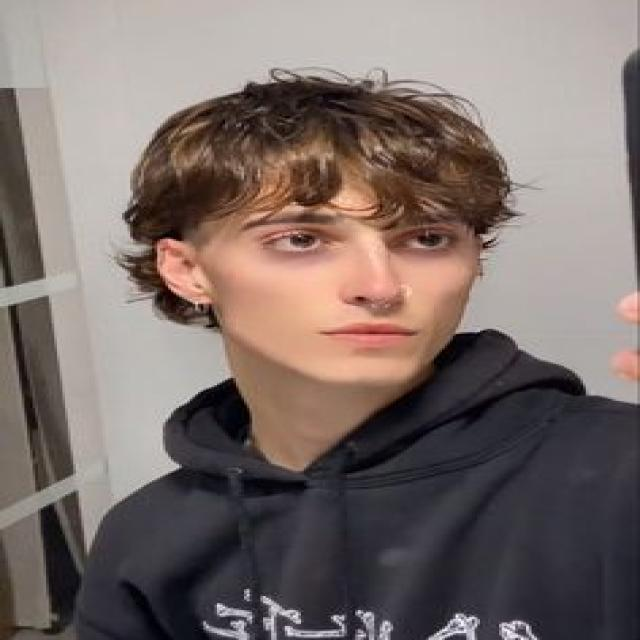Nonhelmet: (108, 61, 529, 387)
